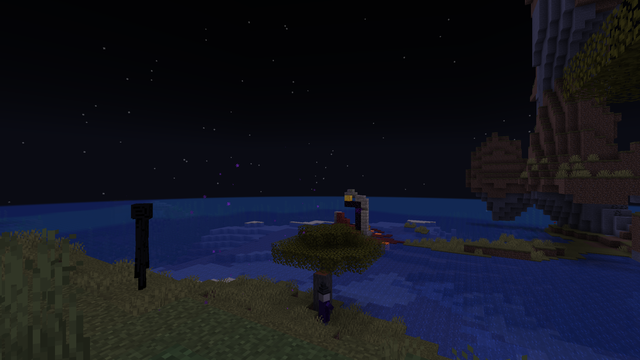endermens: (127, 200, 155, 292)
sorcieres: (317, 288, 330, 327)
